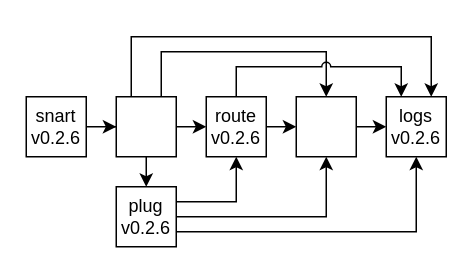
This 473x273 diagram has some shape labels left out. Each missing label, with the centre of its shape:
"bot v0.2.6" belongs at (145,126).
"db v0.2.6" belongs at (325,126).
